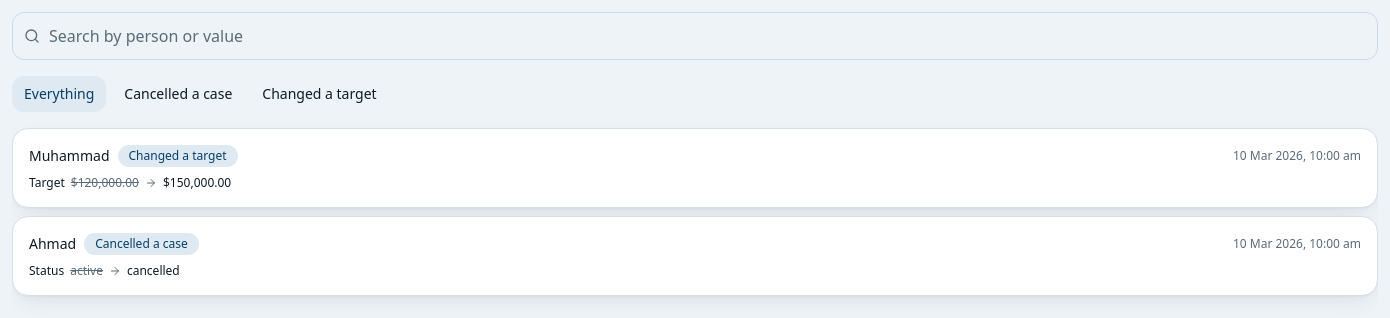
audit trail › filters by action
The image size is (1390, 318).
Click the button "Cancelled a case" at (178, 94), box x1=112 y1=76 x2=244 y2=112
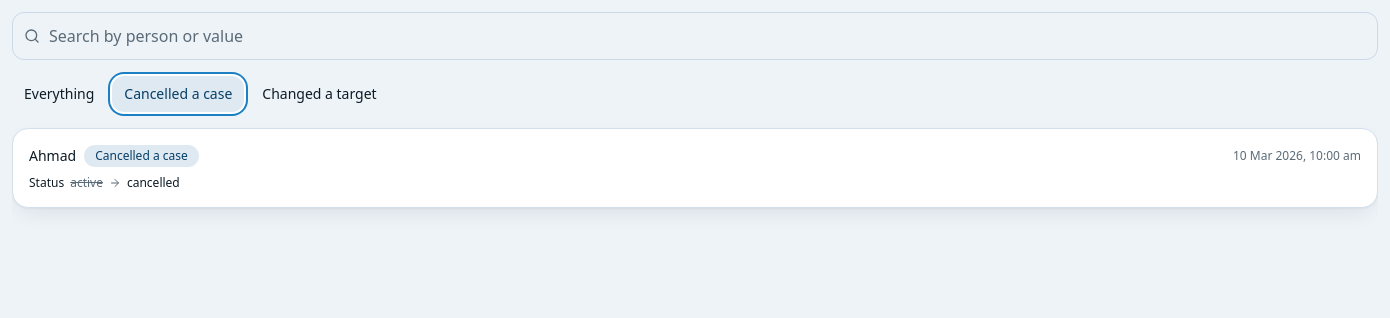
Check: the text "Ahmad" is shown, box x1=29 y1=146 x2=76 y2=166
Check: the text "Muhammad" is gone
